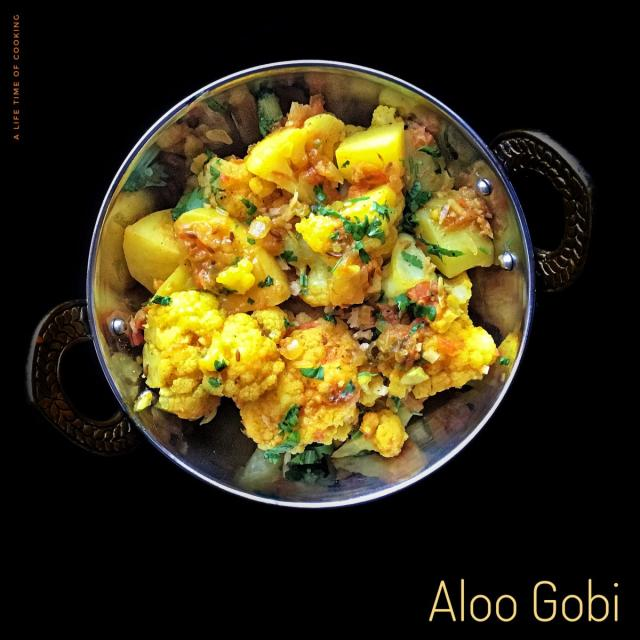aloo_gobi: (127, 119, 494, 454)
